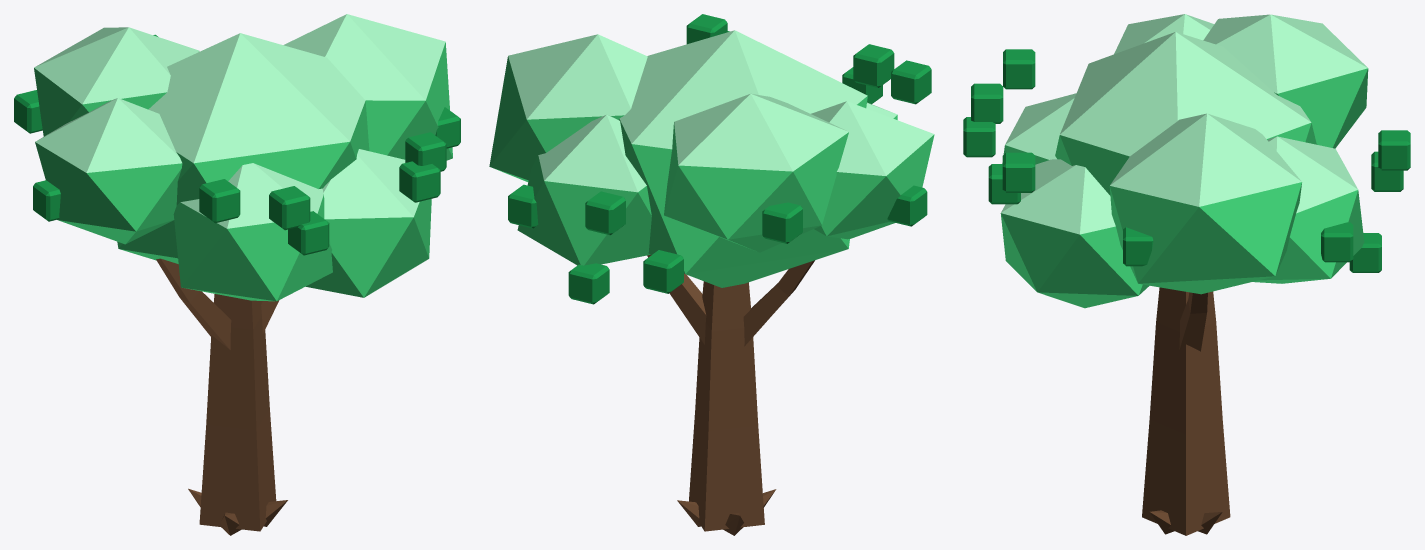
Rendered from EmeraldTree.fbx.
The picture shows the model from 3 angles, left to right: view 1: azimuth 30°, elevation 25°; view 2: azimuth 150°, elevation 25°; view 3: azimuth 270°, elevation 25°; orthographic projection.
Visible parts, largest first — view 1: EmeraldTree; view 2: EmeraldTree; view 3: EmeraldTree.
Part boxes in pixels (x1,y1,x2,y2): EmeraldTree: [14, 14, 460, 535]; EmeraldTree: [489, 14, 934, 535]; EmeraldTree: [963, 14, 1410, 535].
Size of the model in its own units: 12.26 by 14.11 by 11.62.
1 material, 1 textured.
